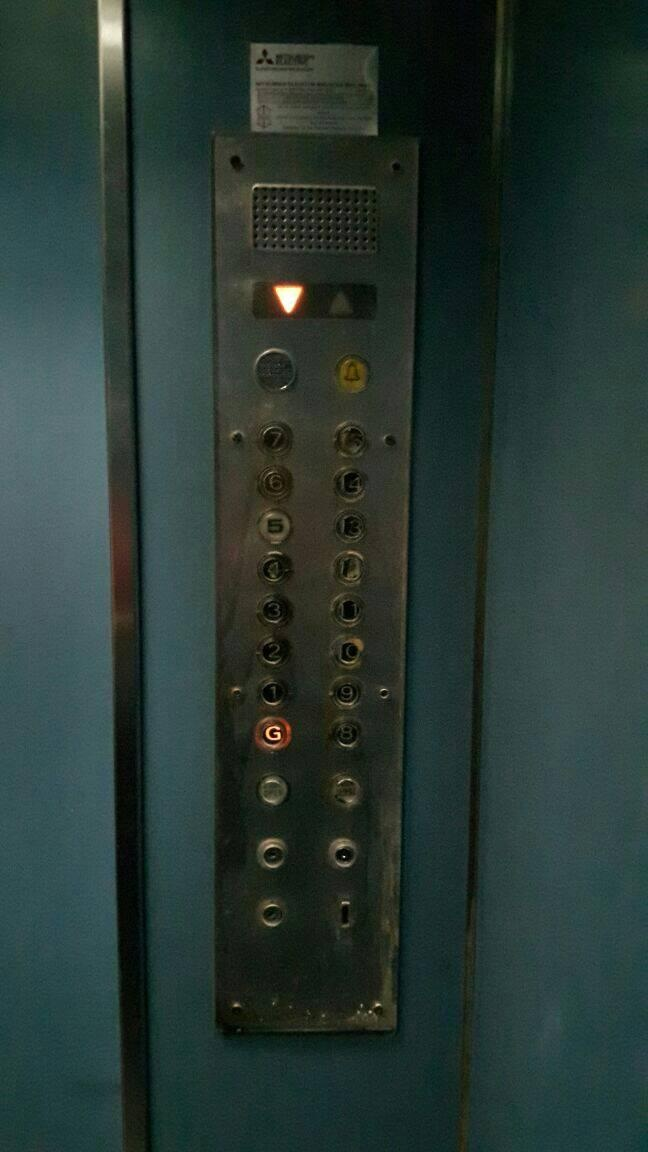1: (256, 675, 293, 710)
10: (327, 633, 366, 670)
11: (329, 591, 368, 628)
13: (330, 505, 370, 545)
14: (330, 465, 370, 505)
2: (256, 633, 293, 668)
3: (256, 593, 293, 628)
4: (256, 550, 293, 585)
5: (255, 507, 294, 544)
6: (256, 464, 295, 501)
7: (255, 420, 296, 458)
8: (327, 715, 366, 752)
9: (328, 673, 367, 710)
G: (253, 715, 292, 751)
alarm: (332, 353, 372, 395)
blur: (249, 347, 297, 395), (328, 548, 368, 588), (330, 421, 370, 461)
keyhole: (255, 835, 290, 872), (326, 836, 360, 871), (258, 897, 286, 930)
switch: (335, 893, 356, 933)
text: (328, 771, 365, 809), (256, 773, 290, 807)
